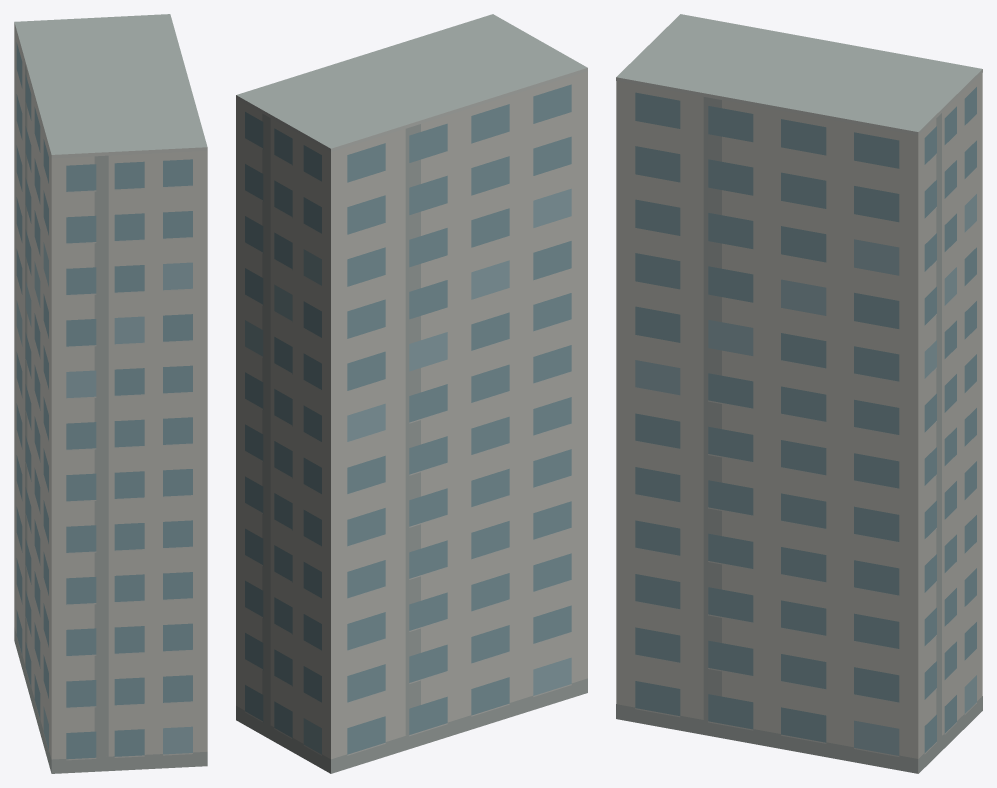
File: residential-0d3f9473-bf53-4dd0-9355-831232507724.glb
The picture shows the model from 3 angles, left to right: view 1: azimuth 30°, elevation 25°; view 2: azimuth 150°, elevation 25°; view 3: azimuth 270°, elevation 25°; orthographic projection. The views are drawn at different scales.
Visible parts, largest first — view 1: residential-0d3f9473-bf53-4dd0-9355-831232507724.tmp; view 2: residential-0d3f9473-bf53-4dd0-9355-831232507724.tmp; view 3: residential-0d3f9473-bf53-4dd0-9355-831232507724.tmp.
Boxes of the visible parts, box(x1,y1,x2,y2) form: residential-0d3f9473-bf53-4dd0-9355-831232507724.tmp: box(14, 14, 207, 773); residential-0d3f9473-bf53-4dd0-9355-831232507724.tmp: box(236, 14, 587, 773); residential-0d3f9473-bf53-4dd0-9355-831232507724.tmp: box(616, 14, 982, 773).
Size of the model in its own units: 16.99 by 43 by 22.27.
